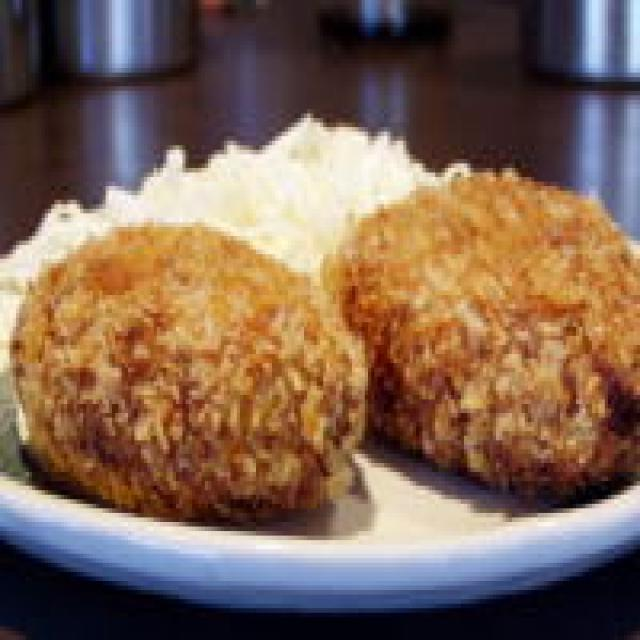炸货点心: (0, 154, 640, 540)
